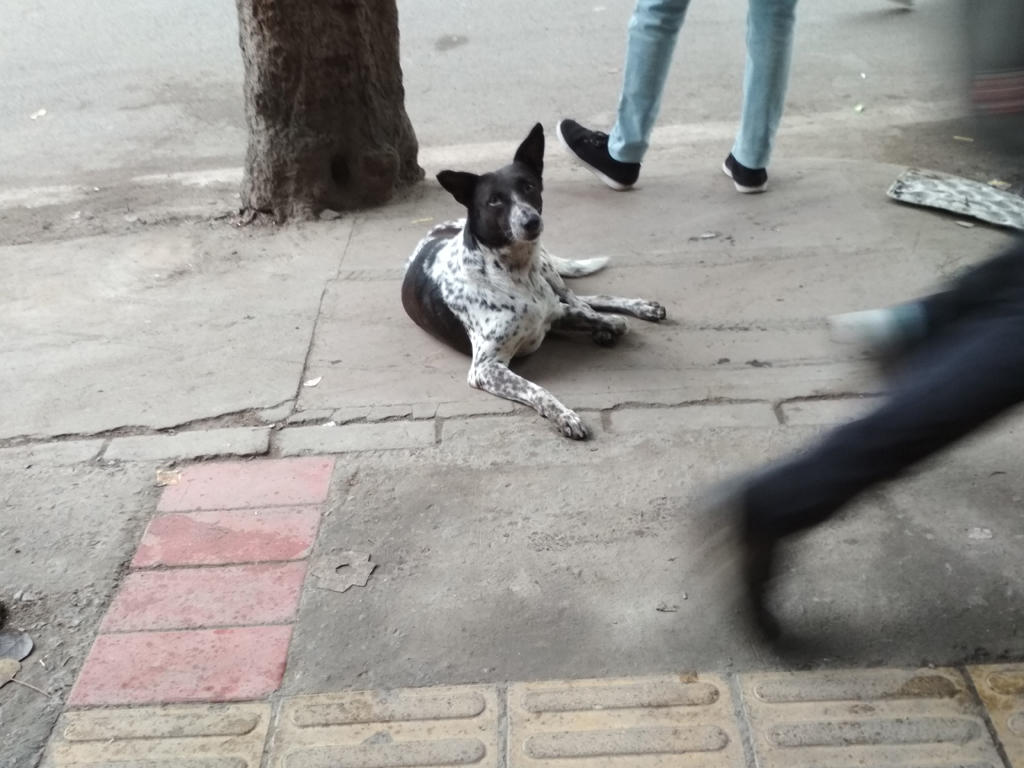dog: (400, 122, 667, 440)
